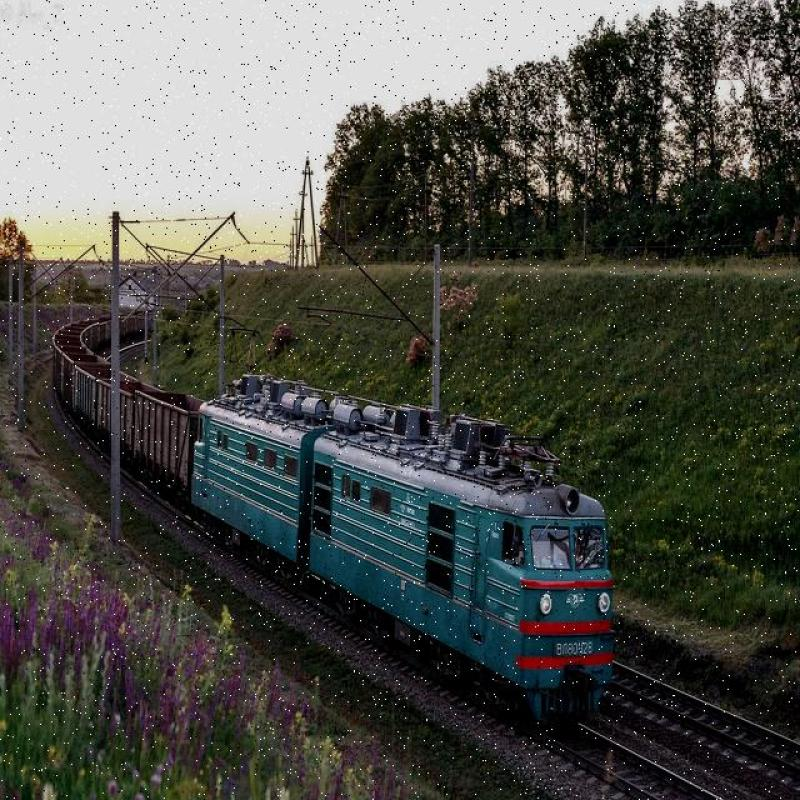train: (196, 399, 607, 718)
